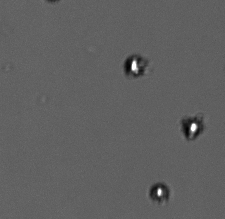Living Cell: (179, 113, 207, 142), (123, 52, 149, 79), (148, 181, 171, 203)
